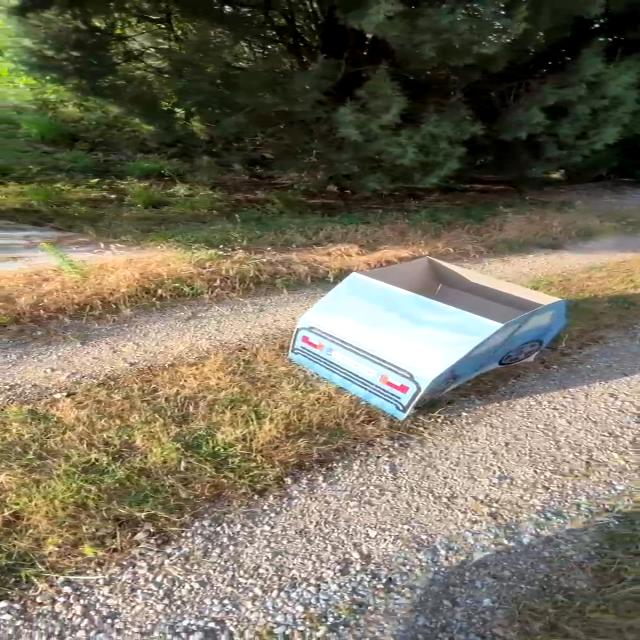blue_car: (251, 247, 614, 446)
